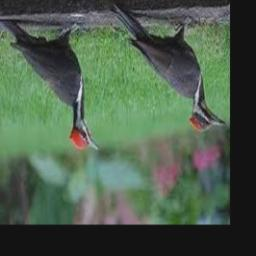Woodpecker: (111, 5, 226, 133), (0, 21, 100, 151)
